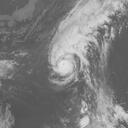cyclone: (47, 38, 90, 87)
